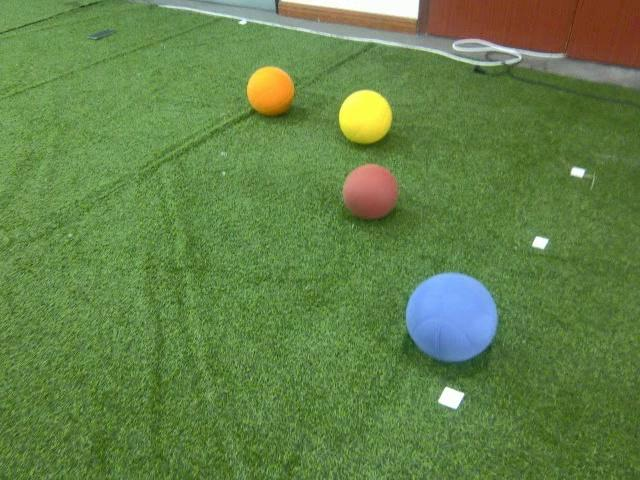blue_ball: (404, 272, 500, 362)
orange_ball: (246, 66, 295, 116)
red_ball: (342, 164, 399, 220)
yellow_ball: (338, 89, 393, 144)
